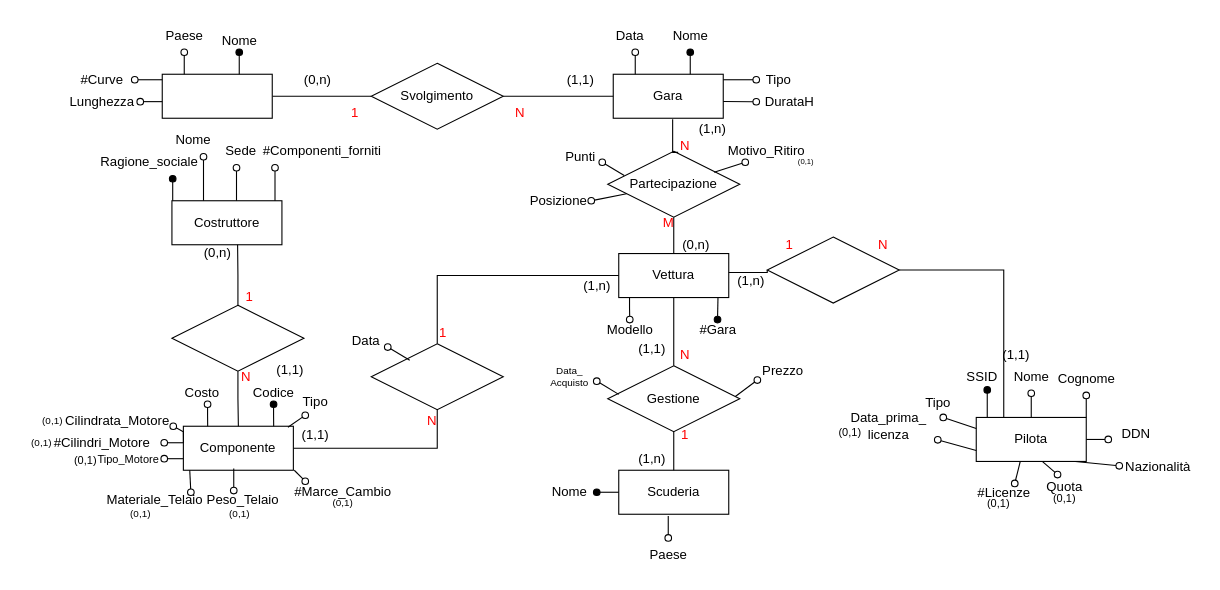
This 1220x590 diagram has some shape labels left out. The box of each missing label's shape, as (x1, y1, x2, y2) in pixels:
Circuito: (161, 73, 272, 118)
Costruzione: (171, 304, 304, 371)
Guida: (766, 236, 899, 303)
Montaggio: (370, 343, 503, 410)
